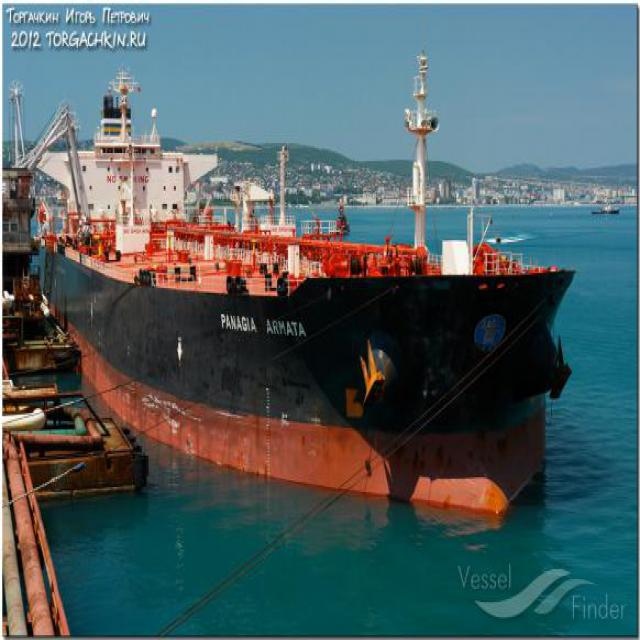Oil Tanker: (35, 66, 580, 522)
